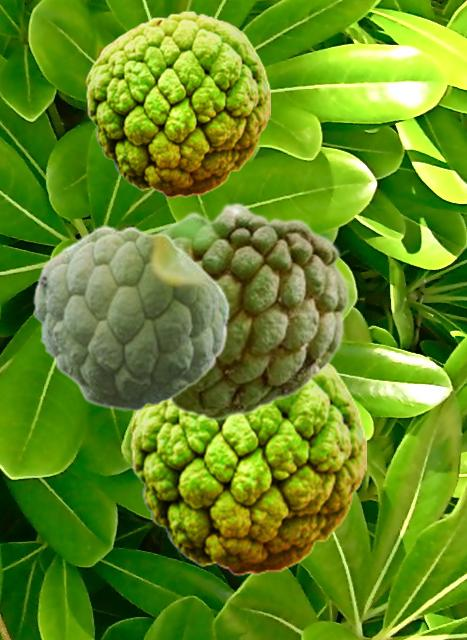atis: (129, 362, 365, 575), (153, 201, 349, 420), (32, 225, 230, 410), (85, 10, 269, 197)
